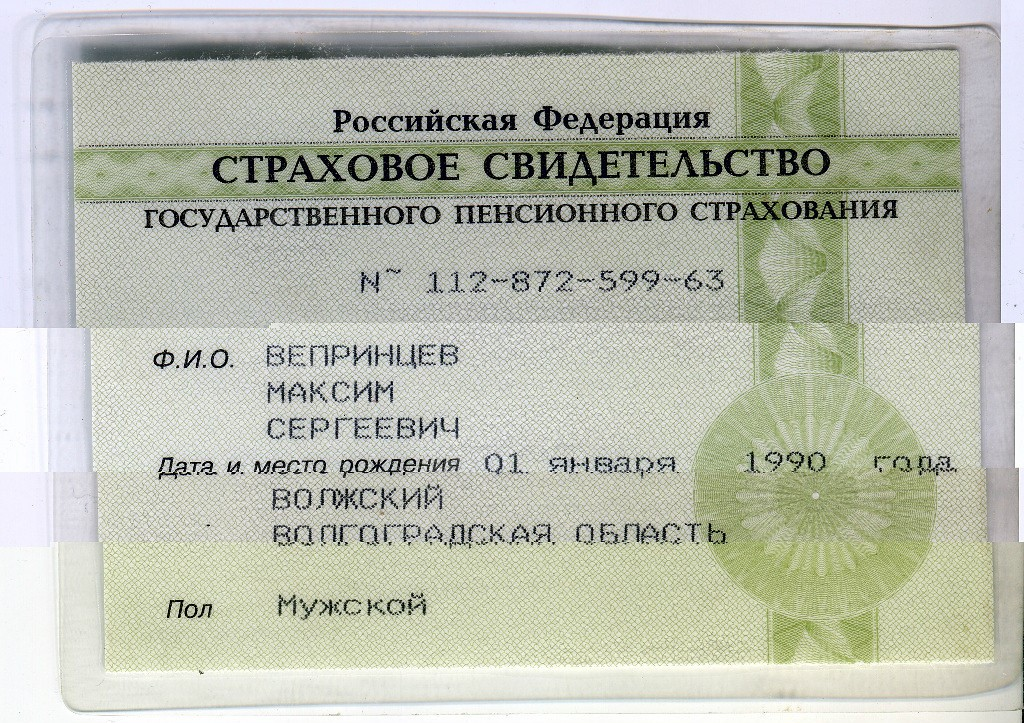text: (259, 486, 739, 553), (415, 254, 743, 297), (737, 444, 965, 477), (477, 443, 687, 477), (260, 334, 468, 368), (258, 410, 468, 442), (260, 584, 436, 618), (255, 375, 406, 406)
